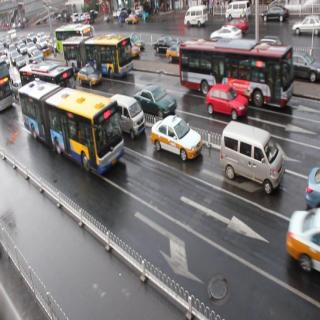BigCar: (16, 78, 126, 184), (180, 38, 294, 108), (60, 34, 138, 79)
Car: (214, 122, 288, 195), (149, 115, 206, 168), (204, 81, 250, 125), (110, 88, 142, 137), (136, 83, 175, 117), (291, 12, 320, 38), (77, 61, 104, 88), (183, 1, 208, 27), (263, 0, 290, 24), (224, 1, 252, 22), (211, 23, 238, 43), (152, 32, 174, 52), (126, 10, 141, 27), (25, 42, 38, 56), (35, 36, 48, 50), (80, 11, 92, 22)
